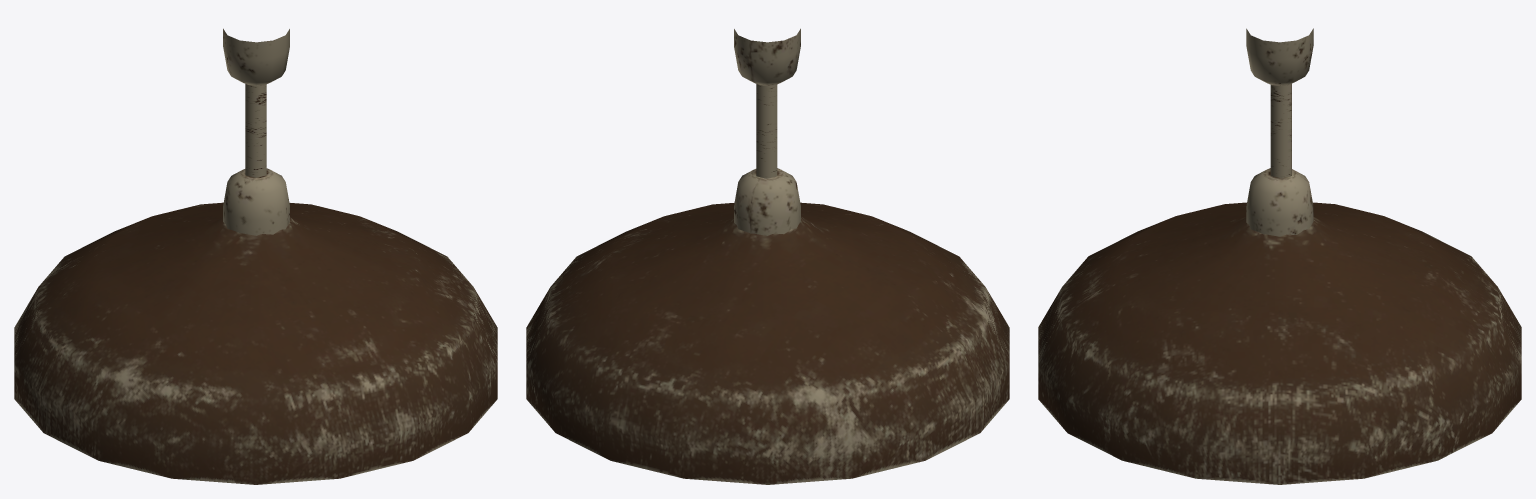
Rendered from SM_electric_props_07.glb.
3 renders of one model, left to right at view 1: azimuth 30°, elevation 25°; view 2: azimuth 150°, elevation 25°; view 3: azimuth 270°, elevation 25°, orthographic.
Visible parts, largest first — view 1: SM_electric_props_07; view 2: SM_electric_props_07; view 3: SM_electric_props_07.
Part boxes in pixels (<box>): SM_electric_props_07: <box>14,28,497,484</box>; SM_electric_props_07: <box>526,28,1009,484</box>; SM_electric_props_07: <box>1038,28,1521,484</box>.
Bounding box in the file's own units: 1 × 0.7942 × 0.9848.
Materials: 2 (1 with a texture image).
